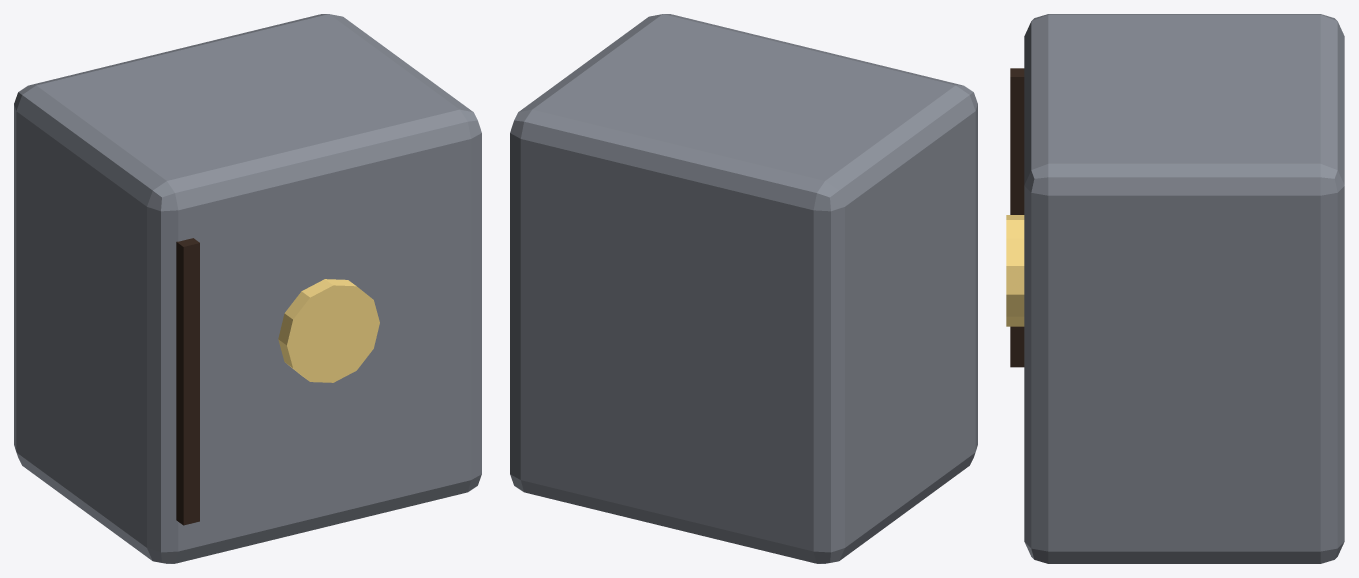
Rendered from int_brankas.fbx.
The picture shows the model from 3 angles, left to right: view 1: azimuth 30°, elevation 25°; view 2: azimuth 150°, elevation 25°; view 3: azimuth 270°, elevation 25°; orthographic projection. The views are drawn at different scales.
Parts seen in each view (by area): view 1: int_brankas; view 2: int_brankas; view 3: int_brankas.
Boxes of the visible parts, x1,y1,x2,y2 form: int_brankas: [14, 14, 481, 563]; int_brankas: [510, 14, 977, 563]; int_brankas: [1006, 14, 1344, 563].
Bounding box in the file's own units: 100 × 110 × 84.5.
1 material, 1 textured.
